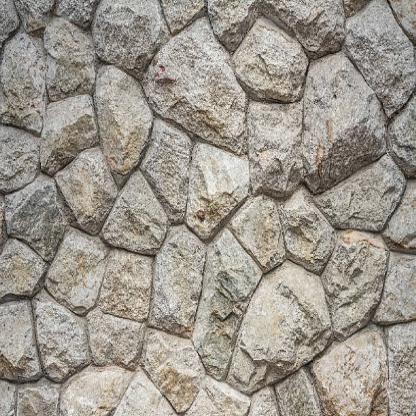Sedimentary_Limestone: (222, 254, 347, 395), (143, 15, 254, 157), (303, 51, 394, 189), (38, 86, 113, 195), (184, 132, 252, 242), (94, 64, 152, 189), (46, 223, 128, 311), (154, 215, 210, 330), (100, 170, 169, 260), (62, 353, 143, 415), (142, 321, 197, 403)
